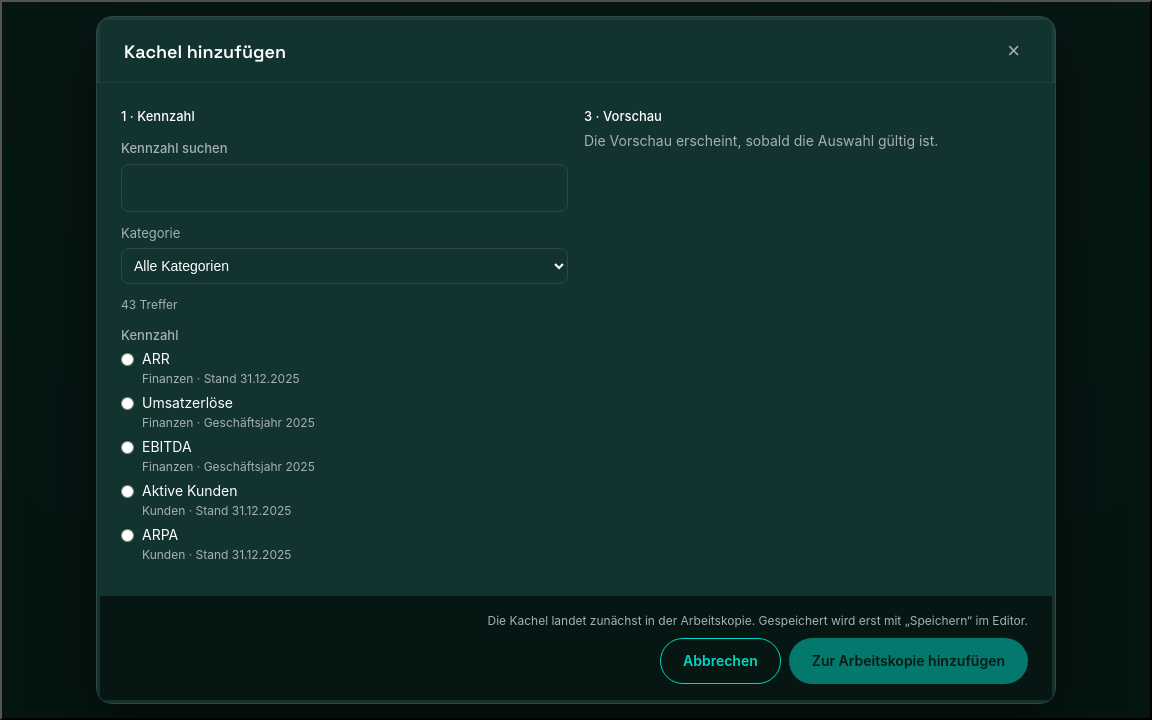
Test case: TileConfigurator › sperrt unzulässigen Zeitbezug mit Grund
Type "ARR" into the field labelled "Kennzahl suchen" at {"x": 344, "y": 188}, box [121,164,568,212]
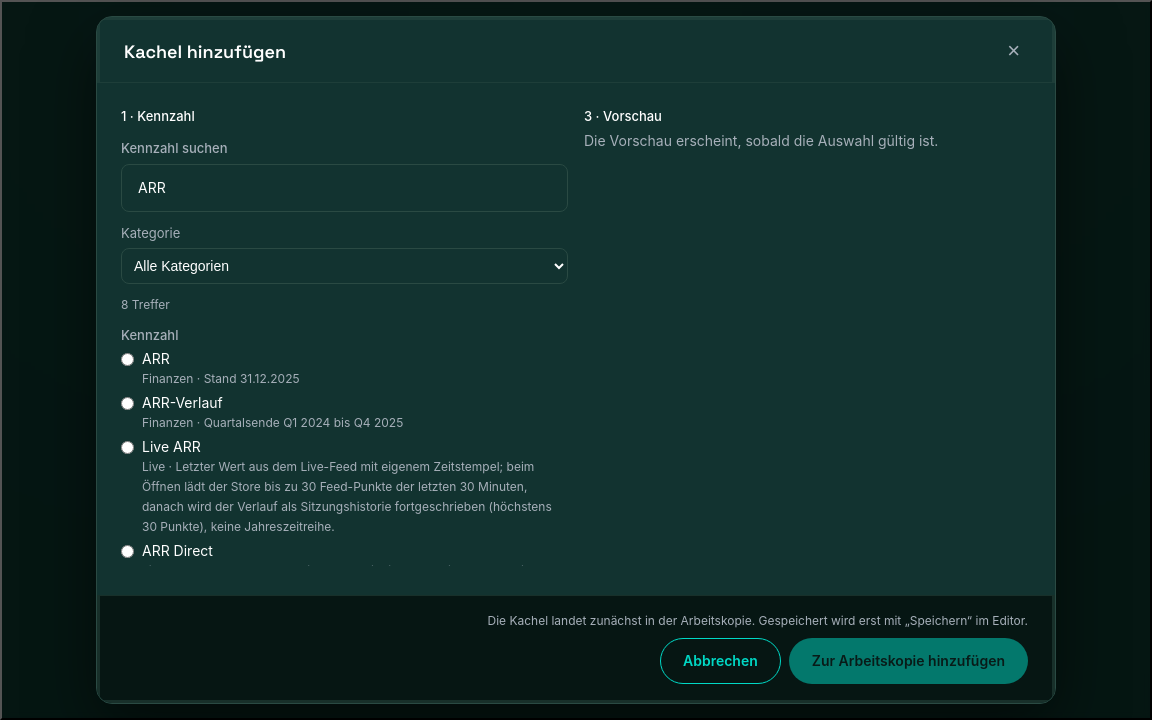
Click the radio button labelled "ARR Finanzen · Stand 31.12.2025" at {"x": 128, "y": 360}, box [121,353,134,366]
(page scrolled)
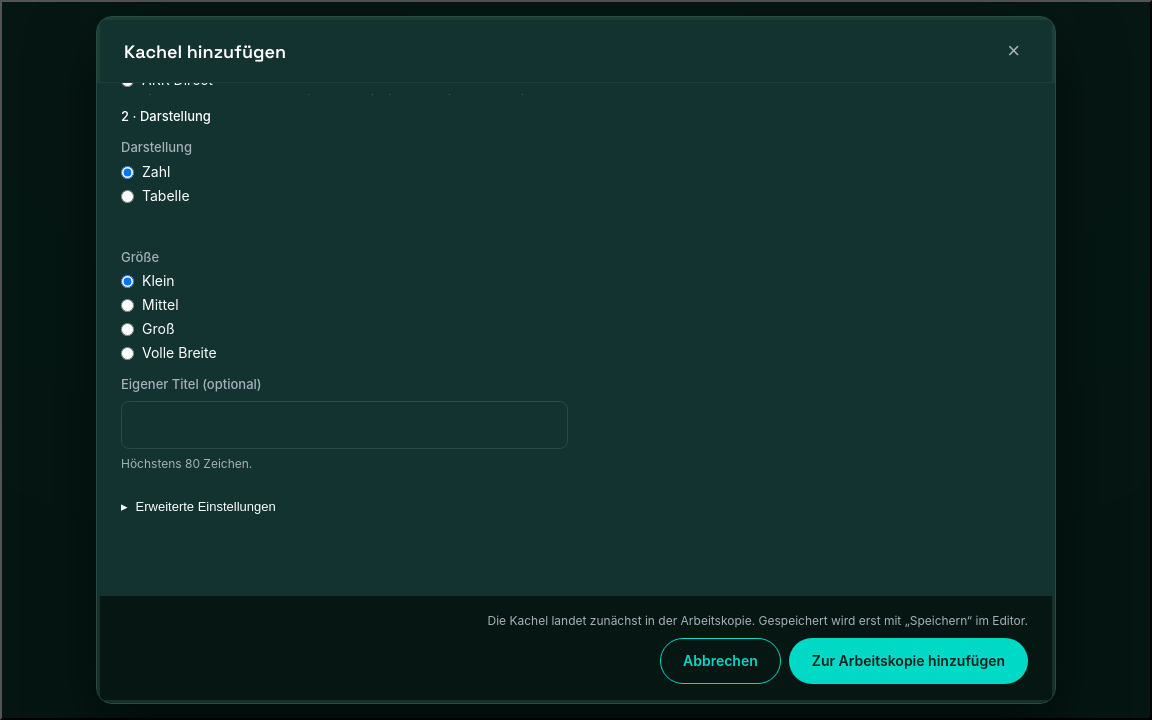
Click the button "▸ Erweiterte Einstellungen" at {"x": 198, "y": 506}, box [121,484,276,528]
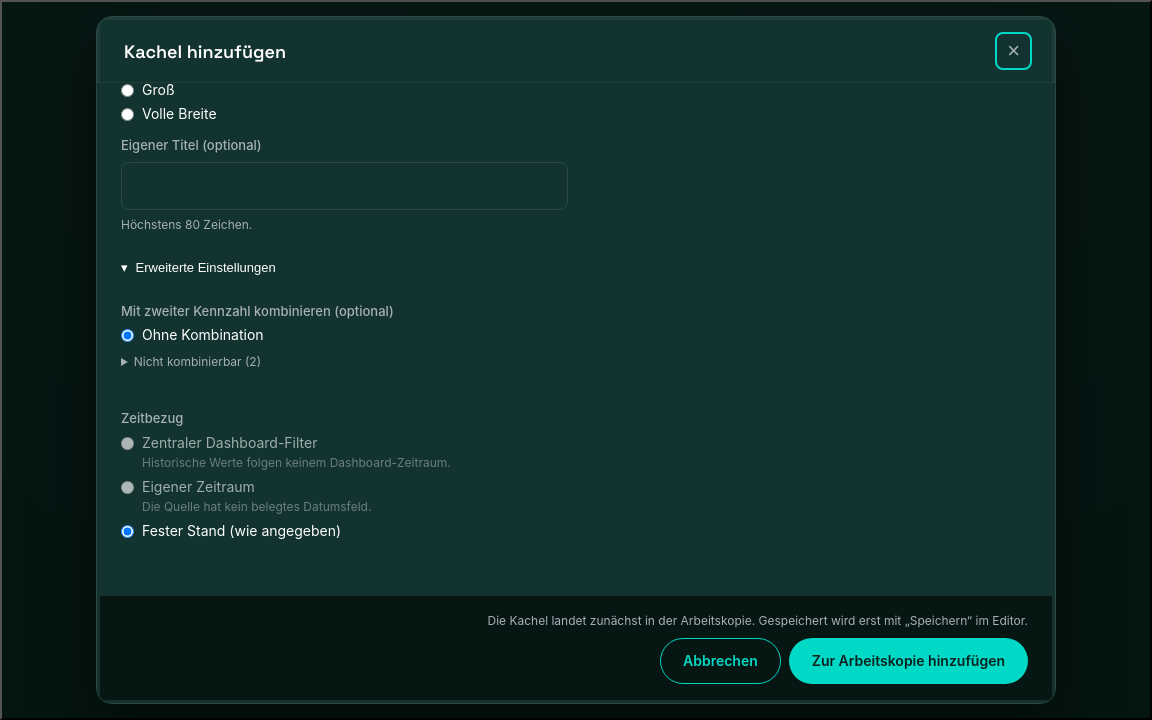
Now the radio button labelled "Eigener Zeitraum Die Quelle hat kein belegtes Datumsfeld." is disabled, box [121,480,134,494]
